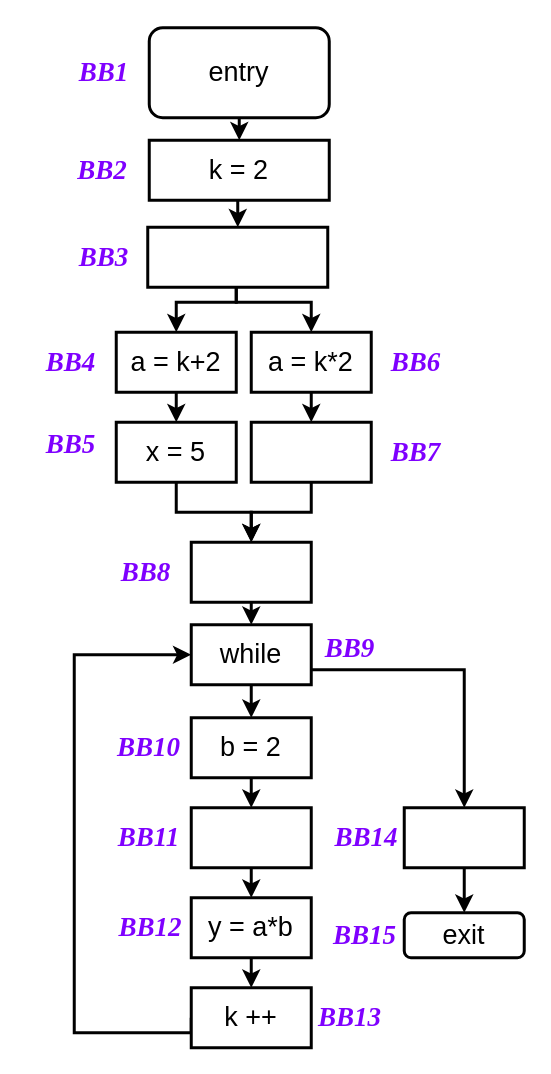
Image size: 551x1074. Some labels were removed from this diagram. Each missing label, with the box of its shape:
if: (146, 225, 328, 288)
k = a: (189, 540, 312, 603)
print(a+k): (402, 806, 525, 868)
x = 8: (249, 420, 372, 483)
x = a + k: (189, 806, 312, 868)
